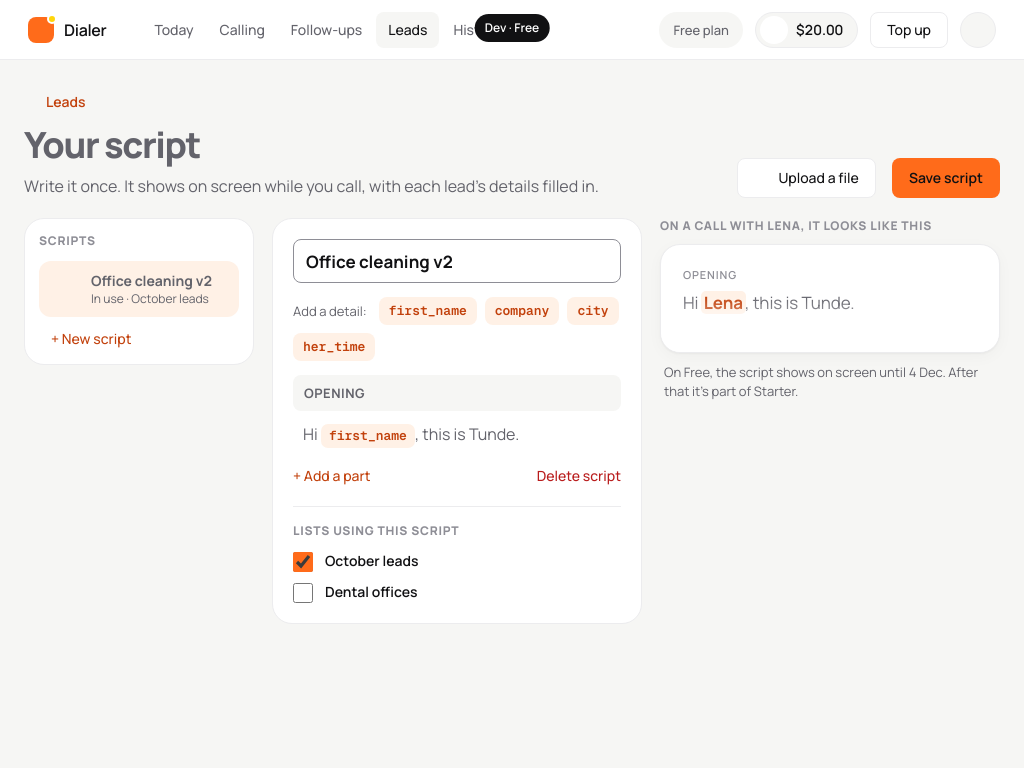
Test: live scripts › loads saved scripts and saves changes with the lists that use them
Check: the text "In use · October leads" is shown, box x1=91 y1=291 x2=227 y2=307
Check: the text "shows on screen until 4 Dec" is shown, box x1=664 y1=363 x2=978 y2=400
Replace the text in the field named "Script name" with "Office cleaning v3" at (457, 261), box x1=293 y1=239 x2=621 y2=283
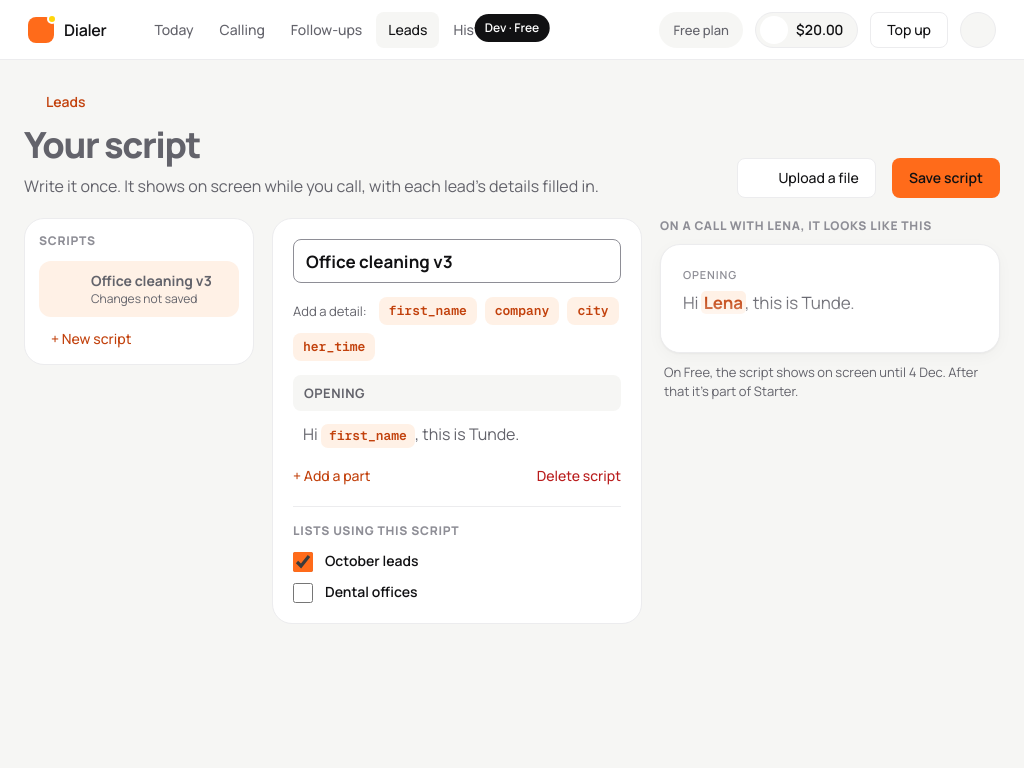
Click the checkbox labelled "Dental offices" at (303, 593), box x1=293 y1=583 x2=313 y2=603
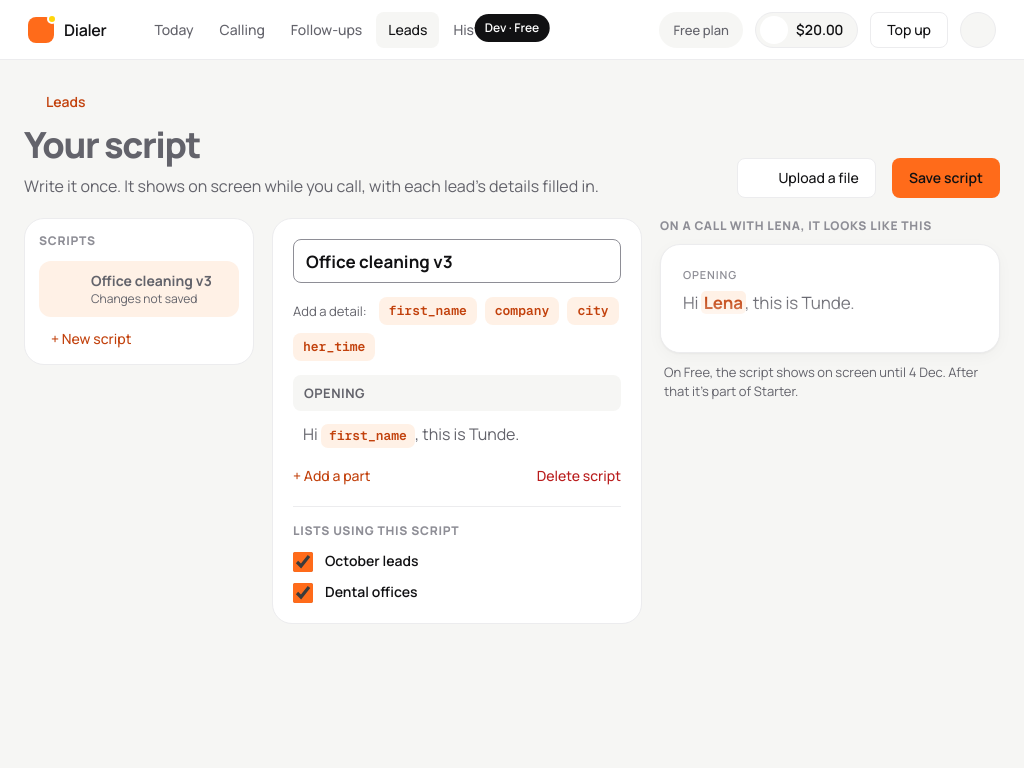
Check: the text "Changes not saved" is shown, box x1=91 y1=290 x2=197 y2=307
Click the button "Save script" at (946, 178), box x1=892 y1=158 x2=1000 y2=198
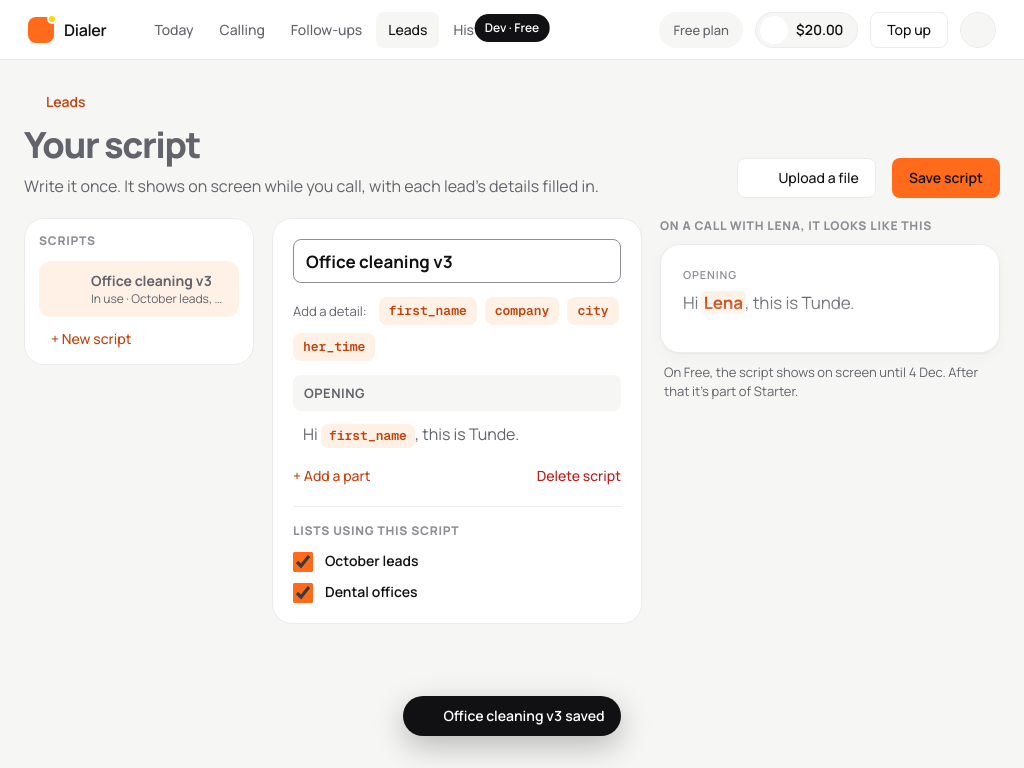
Check: the text "Office cleaning v3 saved" is shown, box x1=403 y1=696 x2=621 y2=736
Check: the text "In use · October leads, Dental offices" is shown, box x1=91 y1=291 x2=227 y2=307
